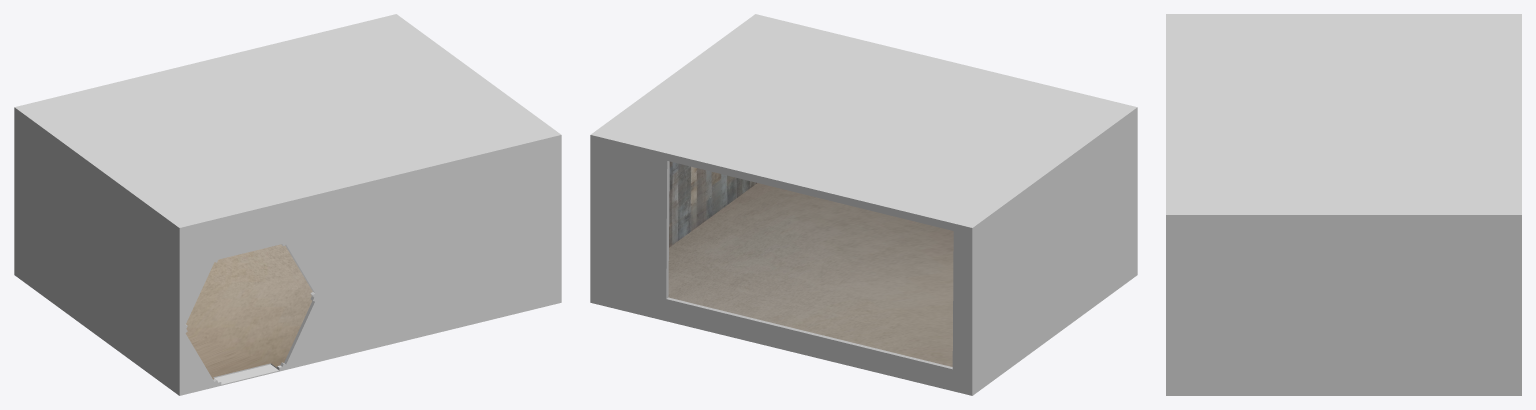
File: Bedroom.glb
3 views of the same model, side by side, from view 1: azimuth 30°, elevation 25°; view 2: azimuth 150°, elevation 25°; view 3: azimuth 270°, elevation 25° (orthographic). The views are drawn at different scales.
Parts seen in each view (by area): view 1: Cube-col, Cube.001, Cube, Cube.003, Cube.002; view 2: Cube-col, Cube.002, Cube.001, Cube, Cube.003; view 3: Cube-col, Cube, Cube.001, Cube.002, Cube.003.
Part boxes in pixels (x1,y1,x2,y2): Cube-col: (14, 14, 561, 395); Cube.001: (425, 95, 511, 146); Cube: (353, 42, 439, 94); Cube.003: (41, 105, 127, 155); Cube.002: (127, 168, 213, 218); Cube-col: (590, 14, 1137, 395); Cube.002: (1029, 101, 1115, 153); Cube.001: (730, 29, 816, 80); Cube: (658, 81, 744, 133); Cube.003: (943, 164, 1029, 215); Cube-col: (1166, 14, 1521, 395); Cube: (1333, 179, 1470, 191); Cube.001: (1177, 179, 1314, 191); Cube.002: (1177, 22, 1314, 34); Cube.003: (1362, 22, 1499, 34).
Bounding box in the file's own units: 8.97 × 3.77 × 6.71.
Materials: 5 (2 with a texture image).
